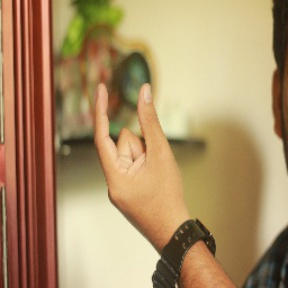U: (90, 79, 180, 215)
